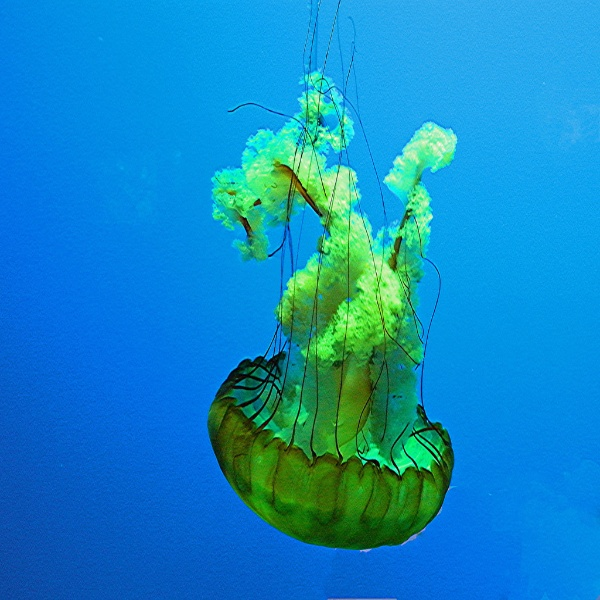Jellyfish: (204, 0, 455, 547)
